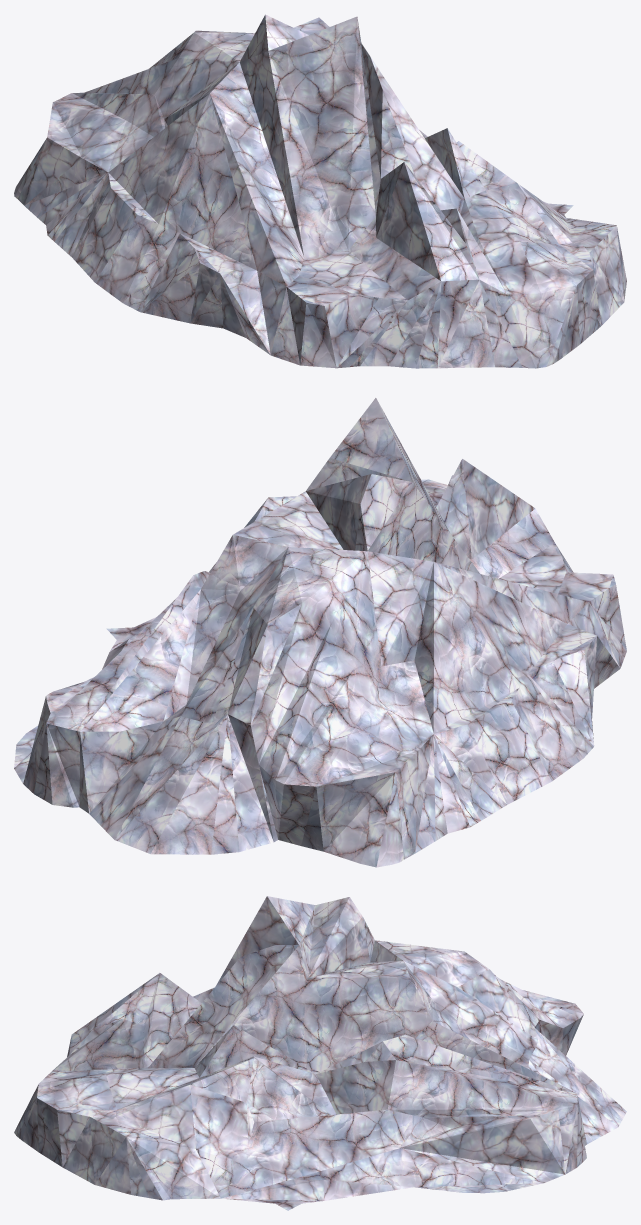
Rendered from rocks.obj.
3 views of the same model, one above another, from view 1: azimuth 30°, elevation 25°; view 2: azimuth 150°, elevation 25°; view 3: azimuth 270°, elevation 25° (orthographic). The views are drawn at different scales.
Visible parts, largest first — view 1: group_0_ID3; view 2: group_0_ID3; view 3: group_0_ID3.
Boxes of the visible parts, x1,y1,x2,y2 form: group_0_ID3: (14,14,626,368); group_0_ID3: (14,398,626,867); group_0_ID3: (14,896,626,1210).
Size of the model in its own units: 4.38 by 2.42 by 6.15.
Materials: 1 (1 with a texture image).
